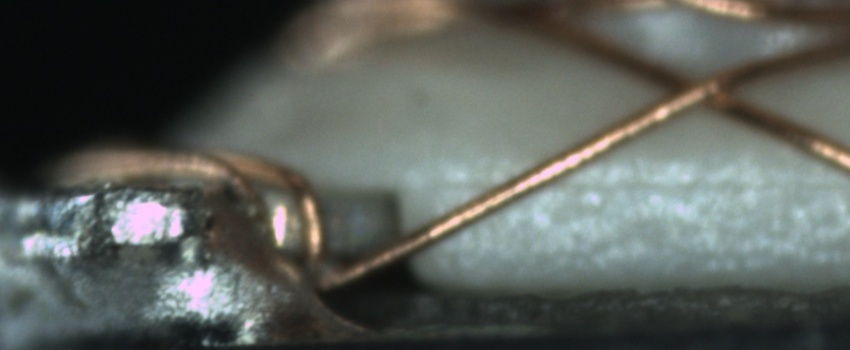CL: (645, 53, 750, 121)
DL: (379, 154, 850, 218)
TE: (54, 141, 332, 293)
